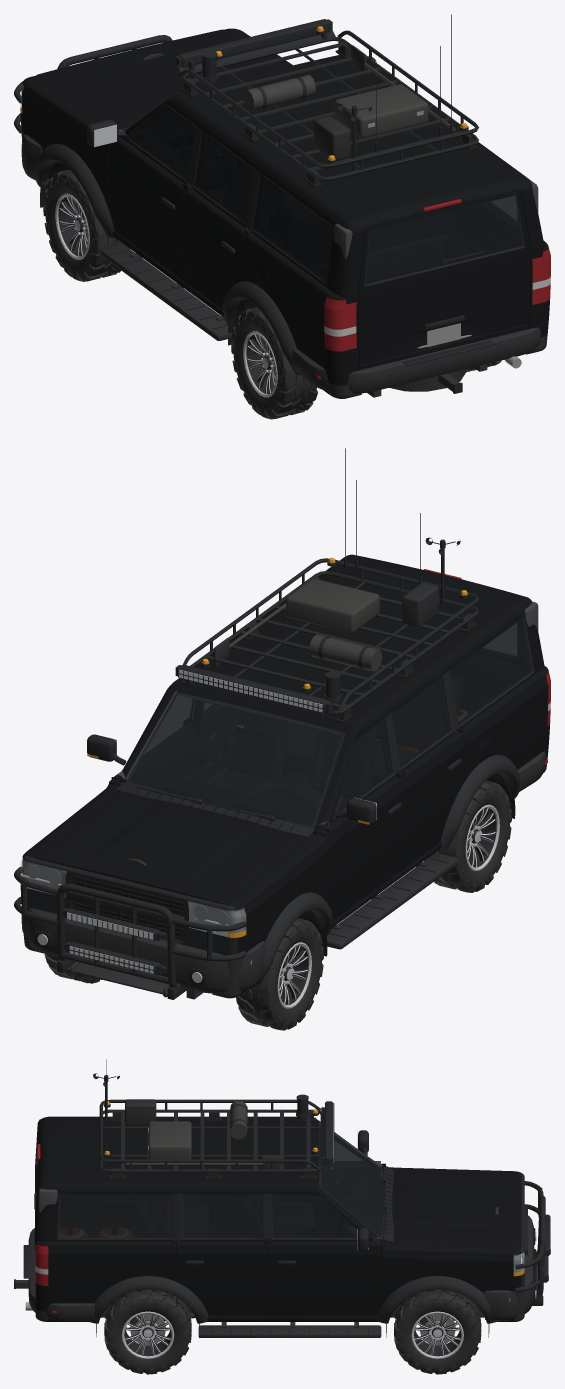
The model's file is chaser.glb.
3 renders of one model, top to bottom at view 1: azimuth 30°, elevation 25°; view 2: azimuth 150°, elevation 25°; view 3: azimuth 270°, elevation 25°, orthographic. The views are drawn at different scales.
Visible parts, largest first — view 1: Body, Liftgate, RoofRack, Door_FL, Door_RL, Hood, Bumper_R, Wheel_RL, Wheel_FL, ExteriorTrim, FenderFlare_FL, FenderFlare_RL (+4 smaller); view 2: Body, RoofRack, Windshield, Hood, Door_FL, Door_RL, BrushGuard, Bumper_F, Wheel_FL, ExteriorTrim, Wheel_RL, Grille (+6 smaller); view 3: Body, Door_FR, RoofRack, Door_RR, Hood, Wheel_FR, Wheel_RR, Windshield, ExteriorTrim, FenderFlare_RR, FenderFlare_FR, Bumper_F (+4 smaller).
Part boxes in pixels (x1,y1,x2,y2): Body: (20, 28, 550, 398); Liftgate: (358, 190, 530, 365); RoofRack: (175, 14, 478, 187); Door_FL: (87, 103, 196, 283); Door_RL: (182, 130, 257, 310); Hood: (36, 29, 280, 129); Bumper_R: (292, 327, 540, 393); Wheel_RL: (231, 307, 317, 419); Wheel_FL: (43, 170, 130, 281); ExteriorTrim: (21, 126, 461, 380); FenderFlare_FL: (34, 143, 115, 238); FenderFlare_RL: (222, 281, 300, 375); Body: (20, 554, 550, 998); RoofRack: (175, 448, 478, 723); Windshield: (129, 695, 342, 826); Hood: (36, 791, 305, 903); Door_FL: (315, 716, 405, 922); Door_RL: (392, 674, 465, 870); BrushGuard: (14, 866, 246, 999); Bumper_F: (21, 908, 266, 997); Wheel_FL: (236, 918, 323, 1030); ExteriorTrim: (116, 569, 547, 964); Wheel_RL: (424, 780, 511, 892); Grille: (68, 875, 184, 940); Body: (35, 1116, 524, 1321); Door_FR: (267, 1193, 381, 1316); RoofRack: (99, 1059, 334, 1179); Door_RR: (176, 1193, 267, 1316); Hood: (392, 1171, 521, 1245); Wheel_FR: (394, 1289, 481, 1374); Wheel_RR: (104, 1289, 191, 1374); Windshield: (321, 1135, 383, 1237); ExteriorTrim: (37, 1144, 510, 1337); FenderFlare_RR: (87, 1276, 209, 1323); FenderFlare_FR: (376, 1276, 498, 1323); Bumper_F: (484, 1215, 537, 1320).
Bounding box in the file's own units: 2.59 × 3.3 × 5.47.
